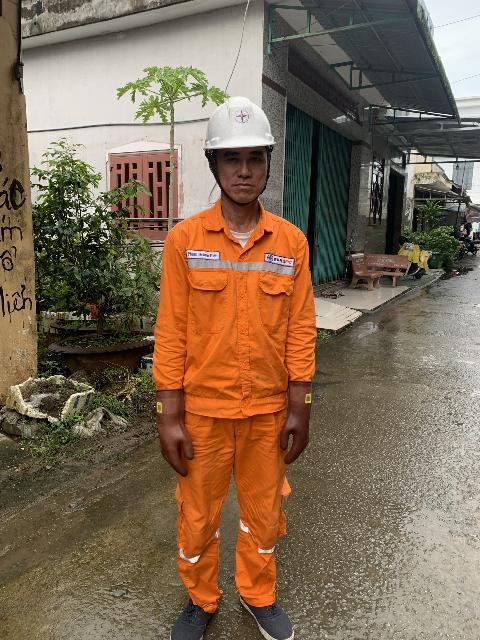gloves: (273, 372, 326, 472), (141, 382, 199, 472)
helmet: (200, 85, 288, 158)
shoes: (232, 577, 300, 640), (169, 582, 223, 640)
